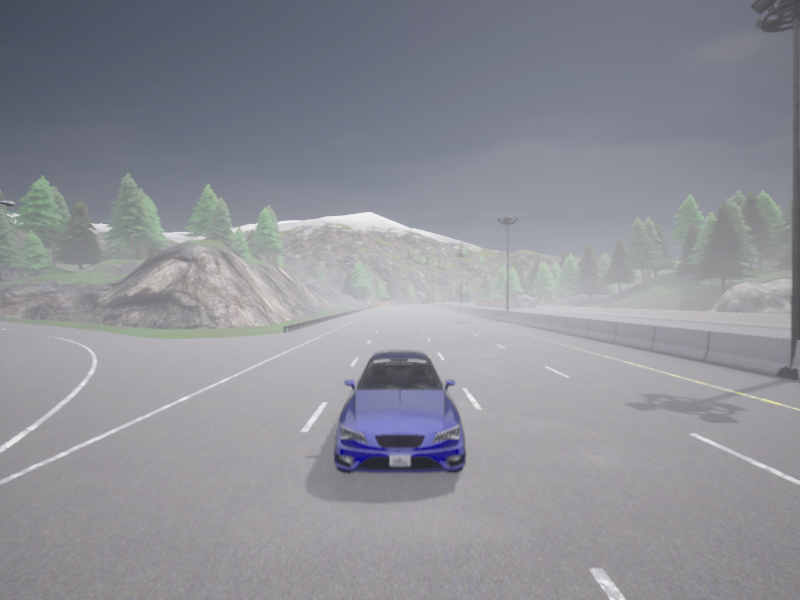vehicle: (333, 348, 466, 472), (448, 302, 449, 304)
